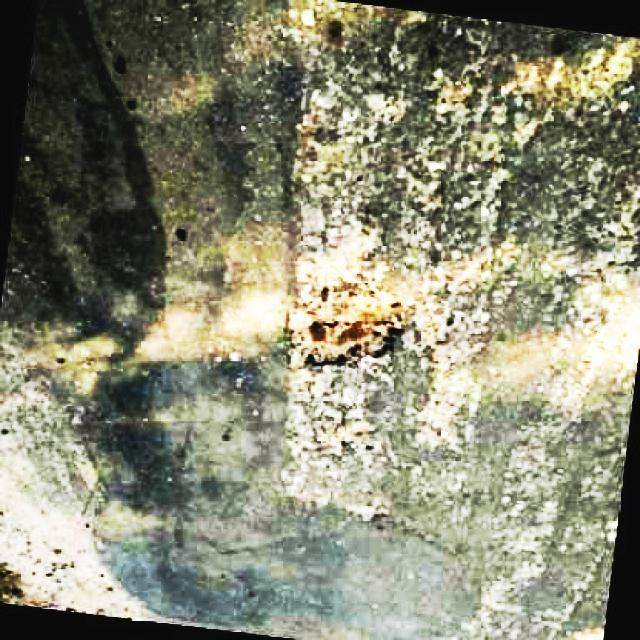pothole: (296, 274, 406, 375), (311, 401, 383, 474)
